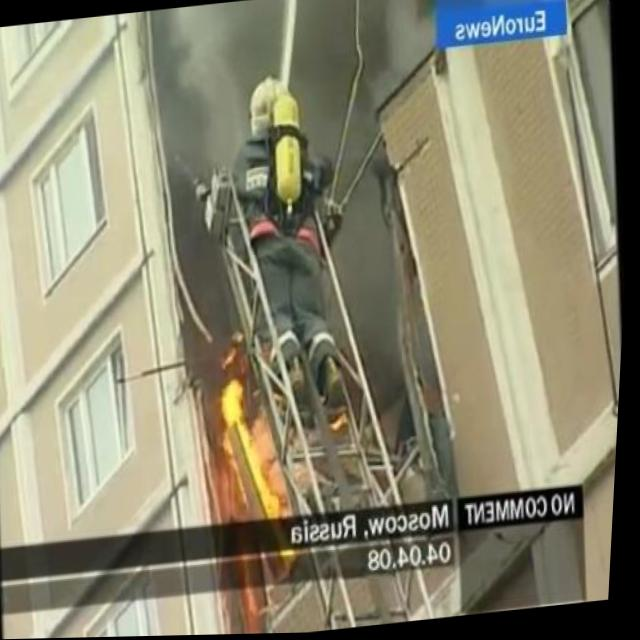fire: (215, 368, 299, 522), (331, 409, 354, 434)
